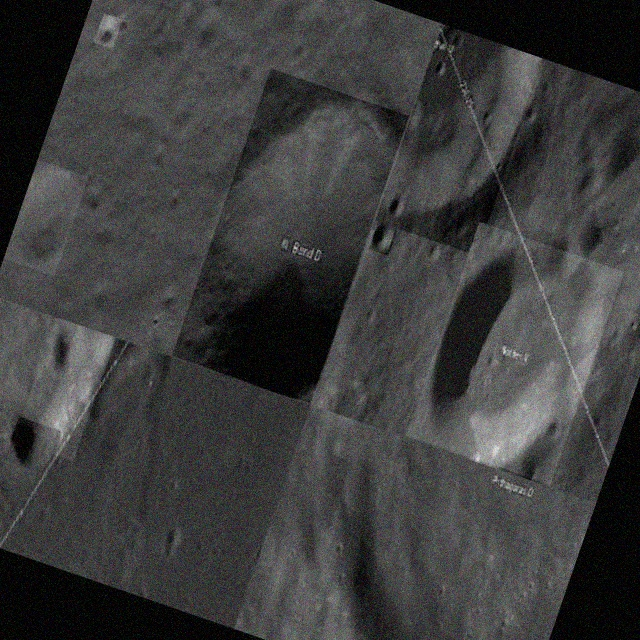crater: (172, 69, 408, 402), (288, 423, 594, 640), (405, 222, 623, 485), (374, 24, 544, 255), (0, 294, 115, 461), (3, 159, 88, 276), (4, 416, 62, 474), (368, 220, 398, 256), (94, 13, 122, 49)
